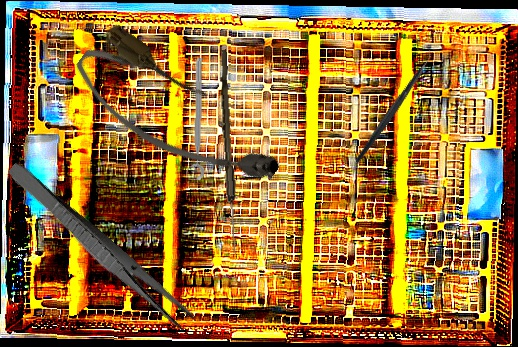Cannula: (64, 18, 290, 216)
Chopper: (325, 46, 461, 165)
Dressing Forceps: (1, 159, 198, 335)
Fixation Ring: (184, 57, 206, 180)
Surgical Spoon: (216, 49, 241, 255)
